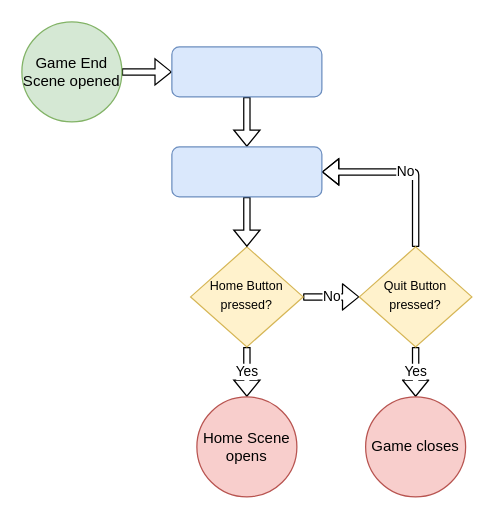
The diagram is 494 pixels wide and 519 high, and some of its shapes have lost their labels. Here are the shapes that lost their labels. From the top down, the centre of each, then its label:
the point at 246,71: Game End Scene loads
the point at 246,171: Wait for player input
